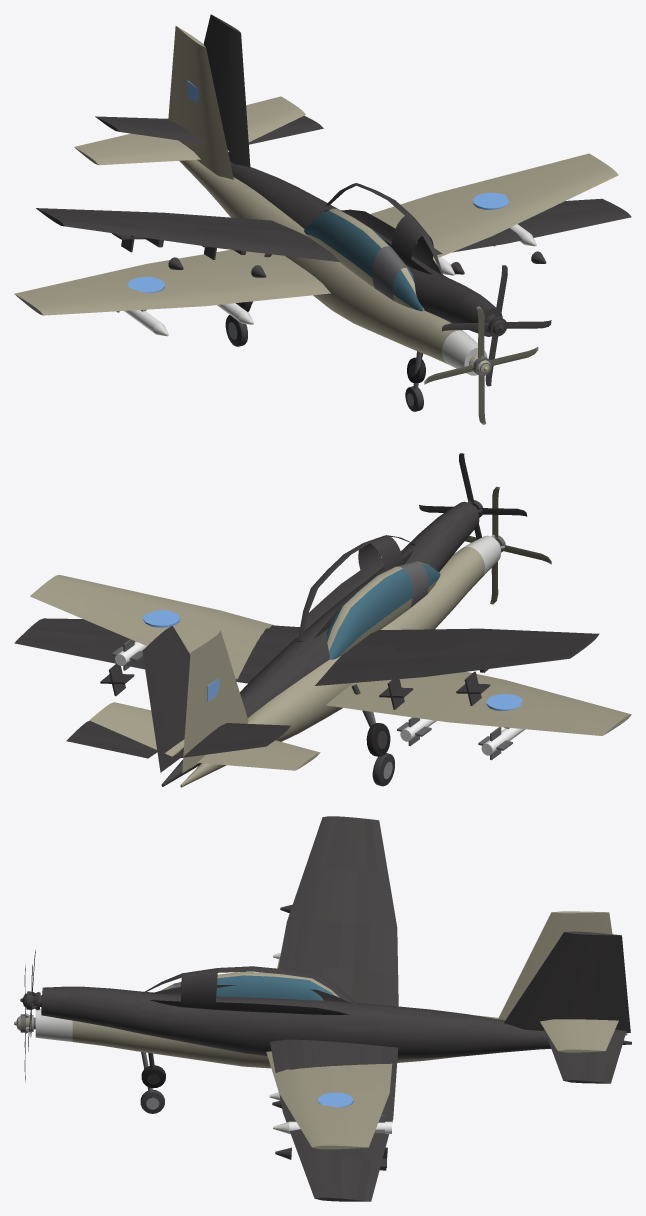
Rendered from lightFighter__ka_1.glb.
3 renders of one model, top to bottom at view 1: azimuth 30°, elevation 25°; view 2: azimuth 150°, elevation 25°; view 3: azimuth 270°, elevation 25°, orthographic. The views are drawn at different scales.
Parts seen in each view (by area): view 1: Fuselage_Mesh, Wreck, Propeller_Mesh; view 2: Fuselage_Mesh, Wreck, Propeller_Mesh; view 3: Wreck, Fuselage_Mesh.
Part boxes in pixels (box(x1,y1,x2,y2)): Fuselage_Mesh: box(14, 26, 618, 411); Wreck: box(36, 14, 631, 386); Propeller_Mesh: box(424, 306, 538, 424); Fuselage_Mesh: box(30, 535, 631, 787); Wreck: box(14, 453, 599, 786); Propeller_Mesh: box(465, 486, 551, 604); Wreck: box(20, 816, 631, 1201); Fuselage_Mesh: box(35, 911, 627, 1149).
Size of what is drawn, in the model's own units: 10.87 by 3.7 by 10.33.
